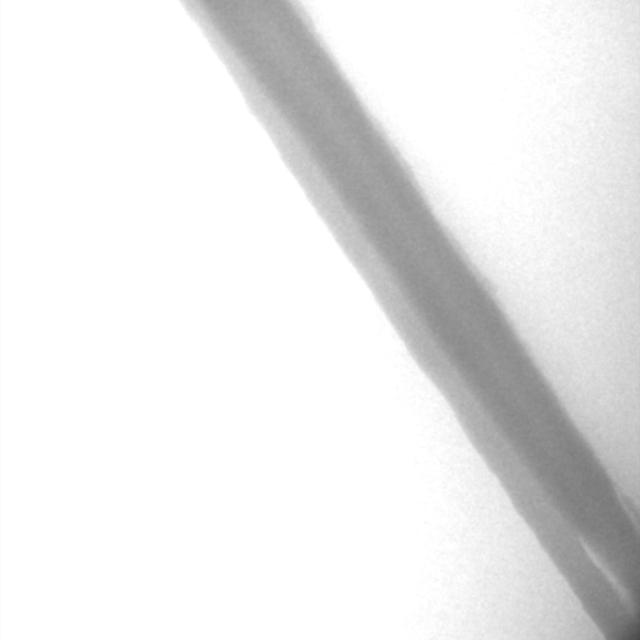unfused: (578, 497, 637, 599)
